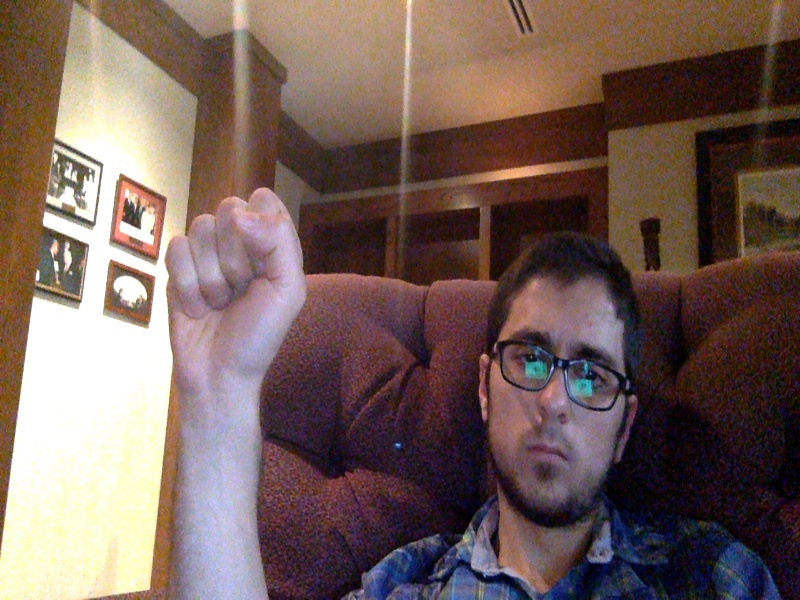0-hand: (165, 190, 308, 380)
